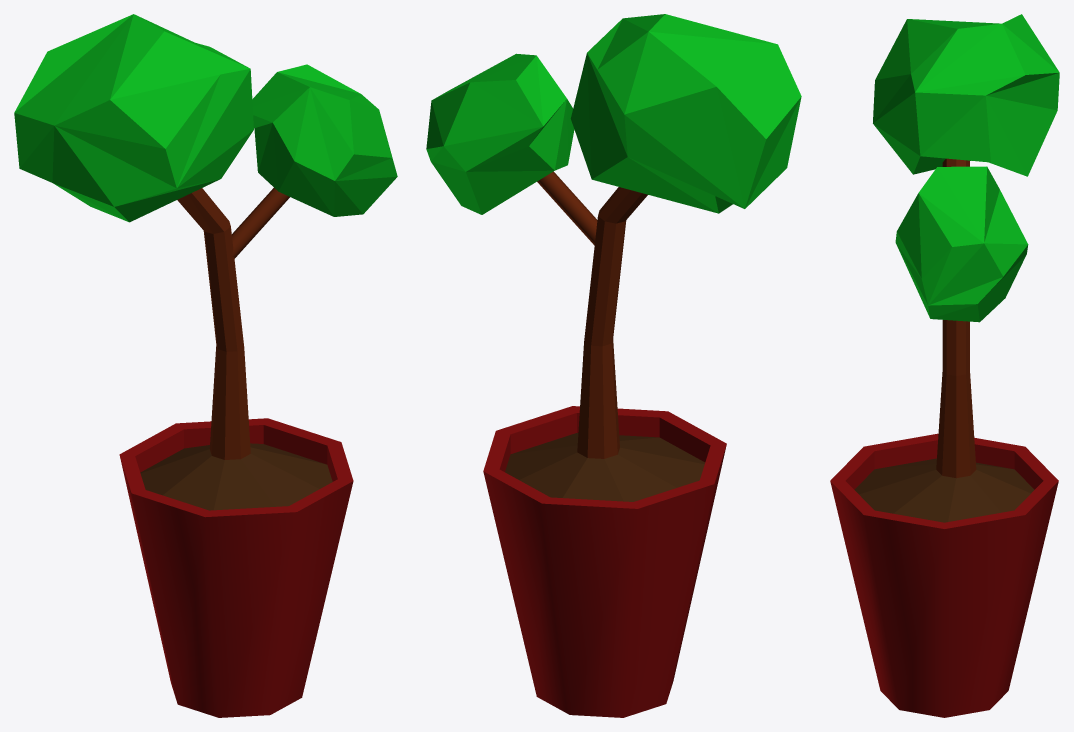
File: Planta01.FBX
3 renders of one model, left to right at view 1: azimuth 30°, elevation 25°; view 2: azimuth 150°, elevation 25°; view 3: azimuth 270°, elevation 25°, orthographic. The views are drawn at different scales.
Parts seen in each view (by area): view 1: Planta01; view 2: Planta01; view 3: Planta01.
Boxes of the visible parts, x1,y1,x2,y2 form: Planta01: [14, 14, 397, 717]; Planta01: [426, 14, 801, 717]; Planta01: [830, 14, 1059, 717].
Size of the model in its own units: 0.7475 by 1.41 by 0.4618.
